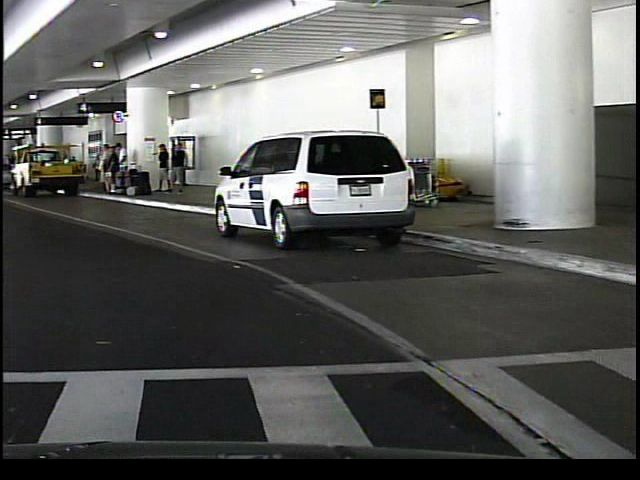person: (168, 139, 186, 195), (93, 140, 108, 195)
